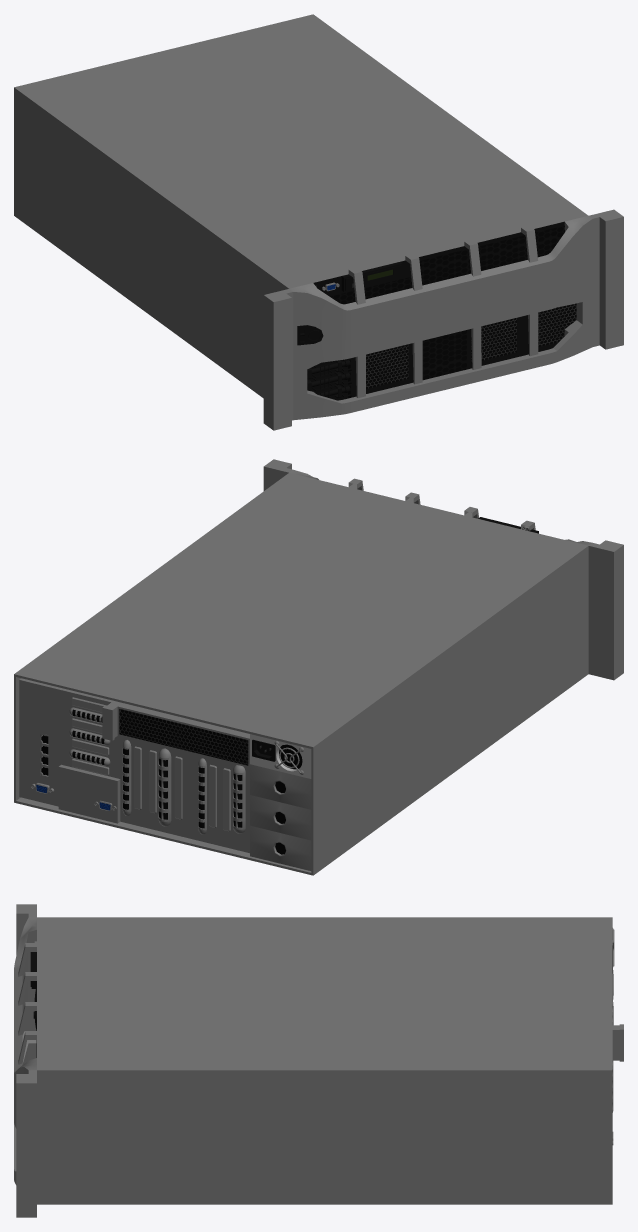
Rendered from DELL_PowerEdge R910.fbx.
3 renders of one model, top to bottom at view 1: azimuth 30°, elevation 25°; view 2: azimuth 150°, elevation 25°; view 3: azimuth 270°, elevation 25°, orthographic. The views are drawn at different scales.
Visible parts, largest first — view 1: DELL_PowerEdge R910; view 2: DELL_PowerEdge R910; view 3: DELL_PowerEdge R910.
Boxes of the visible parts, bbox=[...] form: DELL_PowerEdge R910: bbox=[14, 14, 623, 430]; DELL_PowerEdge R910: bbox=[14, 459, 623, 875]; DELL_PowerEdge R910: bbox=[14, 904, 623, 1217].
Size of the model in its own units: 494 by 179 by 712.
12 materials, 1 textured.
